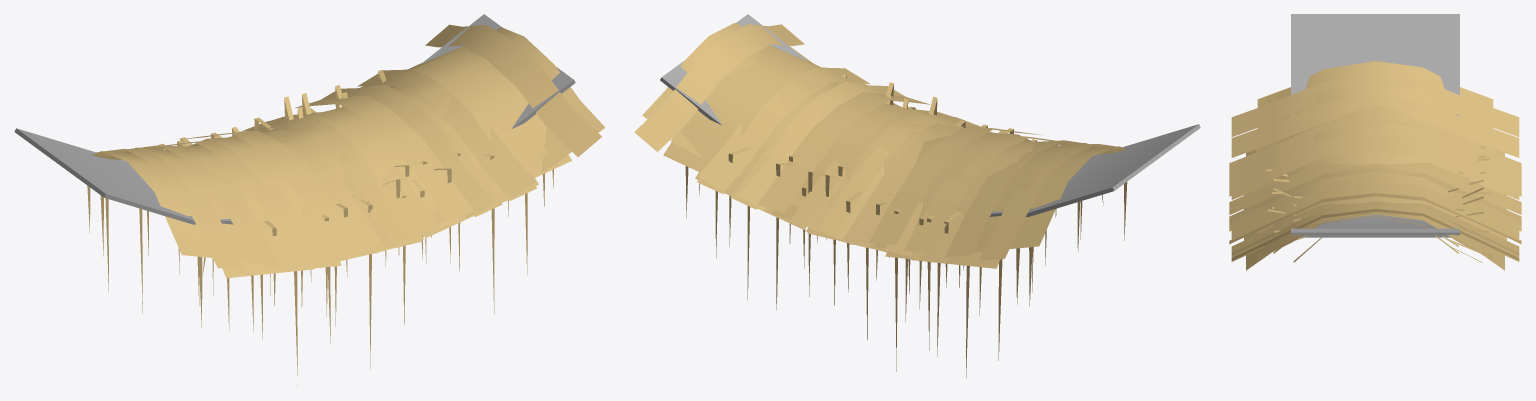
File: SM_HangingHay_00.fbx
3 views of the same model, side by side, from view 1: azimuth 30°, elevation 25°; view 2: azimuth 150°, elevation 25°; view 3: azimuth 270°, elevation 25° (orthographic). The views are drawn at different scales.
Visible parts, largest first — view 1: polySurface3340; view 2: polySurface3340; view 3: polySurface3340.
Boxes of the visible parts, left/top/right/bottom form: polySurface3340: left=14, top=14, right=605, bottom=386; polySurface3340: left=634, top=14, right=1200, bottom=378; polySurface3340: left=1229, top=14, right=1521, bottom=270.
Size of the model in its own units: 306 by 150 by 173.
